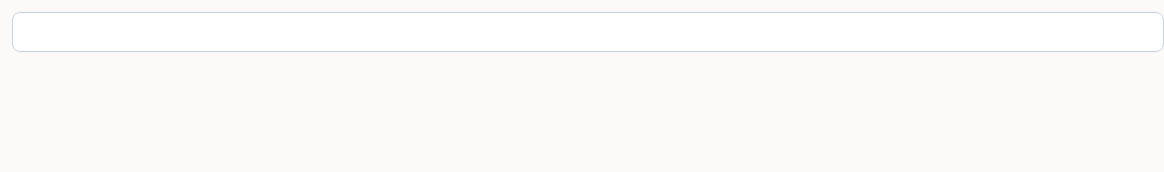
CarSearchAutocomplete › Search and dropdown › CAR-U-009: shows custom option when no results found
This screenshot has width=1164, height=172.
Type "Nieznany Model" into the dropdown at (588, 32), box left=12, top=12, right=1163, bottom=52
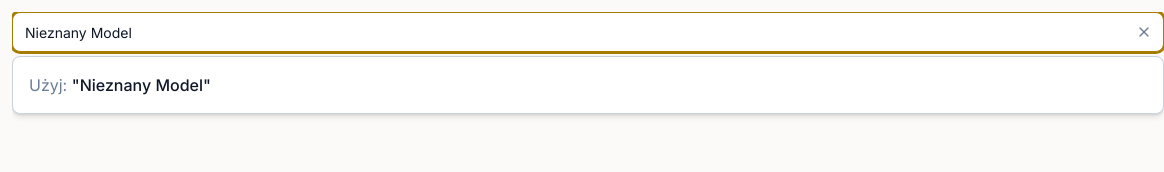
Expected: the option "Użyj: \"Nieznany Model\"" is shown, left=13, top=57, right=1163, bottom=113
Expected: the text "\"Nieznany Model\"" is shown, left=72, top=75, right=211, bottom=95
